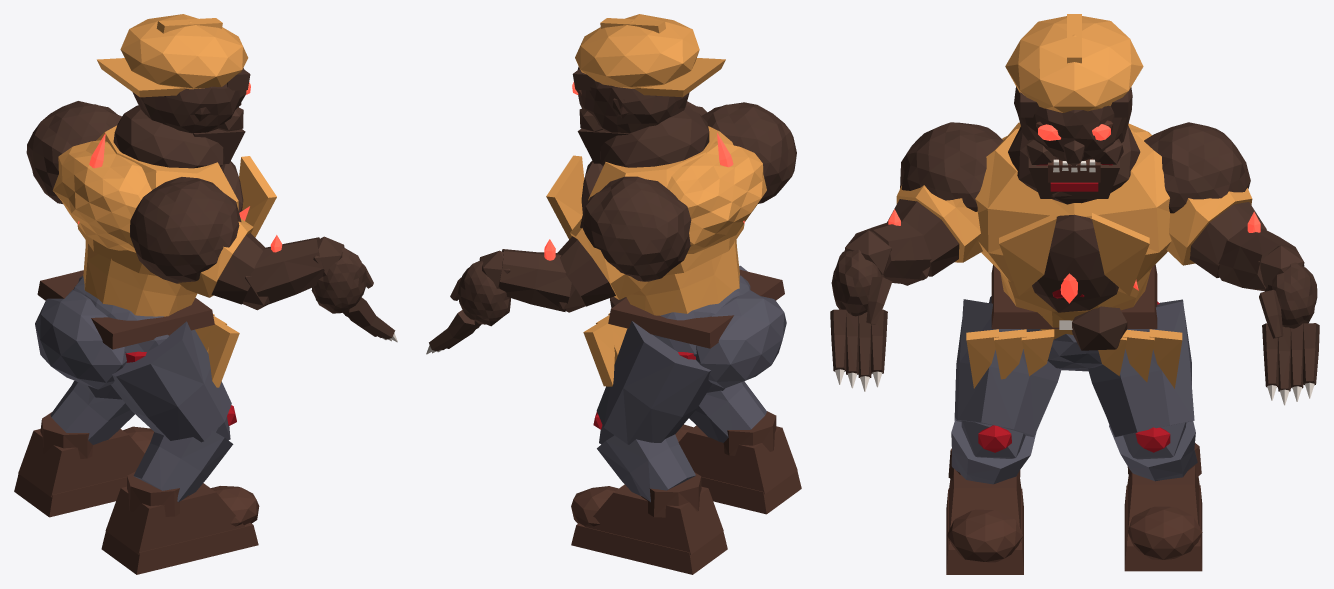
Rendered from inf.alpha-fire.glb.
The picture shows the model from 3 angles, left to right: view 1: azimuth 30°, elevation 25°; view 2: azimuth 150°, elevation 25°; view 3: azimuth 270°, elevation 25°; orthographic projection. The views are drawn at different scales.
Parts seen in each view (by area): view 1: torso, head, armR, footR, hip, footL, legR, shinR, armL, handR, foreArmR, shinL; view 2: torso, head, armL, footL, hip, legL, footR, armR, shinL, handL, foreArmL, shinR; view 3: torso, head, armL, armR, footL, handR, handL, footR, legR, legL, hip, shinR (+3 smaller).
Part boxes in pixels (bbox=[...]): torso: bbox=[52, 105, 276, 387]; head: bbox=[97, 14, 250, 164]; armR: bbox=[130, 177, 265, 304]; footR: bbox=[101, 471, 259, 574]; hip: bbox=[35, 270, 214, 389]; footL: bbox=[14, 412, 153, 517]; legR: bbox=[111, 321, 231, 442]; shinR: bbox=[133, 405, 236, 502]; armL: bbox=[26, 101, 121, 203]; handR: bbox=[311, 236, 397, 342]; foreArmR: bbox=[243, 235, 324, 310]; shinL: bbox=[50, 380, 134, 444]; torso: bbox=[546, 107, 766, 386]; head: bbox=[572, 14, 725, 163]; armL: bbox=[557, 176, 691, 306]; footL: bbox=[571, 472, 727, 574]; hip: bbox=[608, 269, 786, 388]; legL: bbox=[596, 321, 712, 444]; footR: bbox=[675, 411, 801, 514]; armR: bbox=[701, 102, 796, 203]; shinL: bbox=[593, 411, 695, 502]; handL: bbox=[426, 250, 510, 354]; foreArmL: bbox=[498, 239, 585, 312]; shinR: bbox=[689, 381, 766, 442]; torso: bbox=[966, 122, 1182, 388]; head: bbox=[1005, 14, 1143, 198]; armL: bbox=[1144, 122, 1266, 277]; armR: bbox=[887, 122, 1003, 276]; footL: bbox=[1124, 443, 1202, 571]; handR: bbox=[830, 230, 892, 391]; handL: bbox=[1258, 245, 1319, 405]; footR: bbox=[946, 448, 1023, 574]; legR: bbox=[954, 299, 1061, 437]; legL: bbox=[1088, 299, 1194, 437]; hip: bbox=[989, 264, 1157, 371]; shinR: bbox=[951, 418, 1036, 484].
Bounding box in the file's own units: 1.33 × 2.56 × 2.11.
